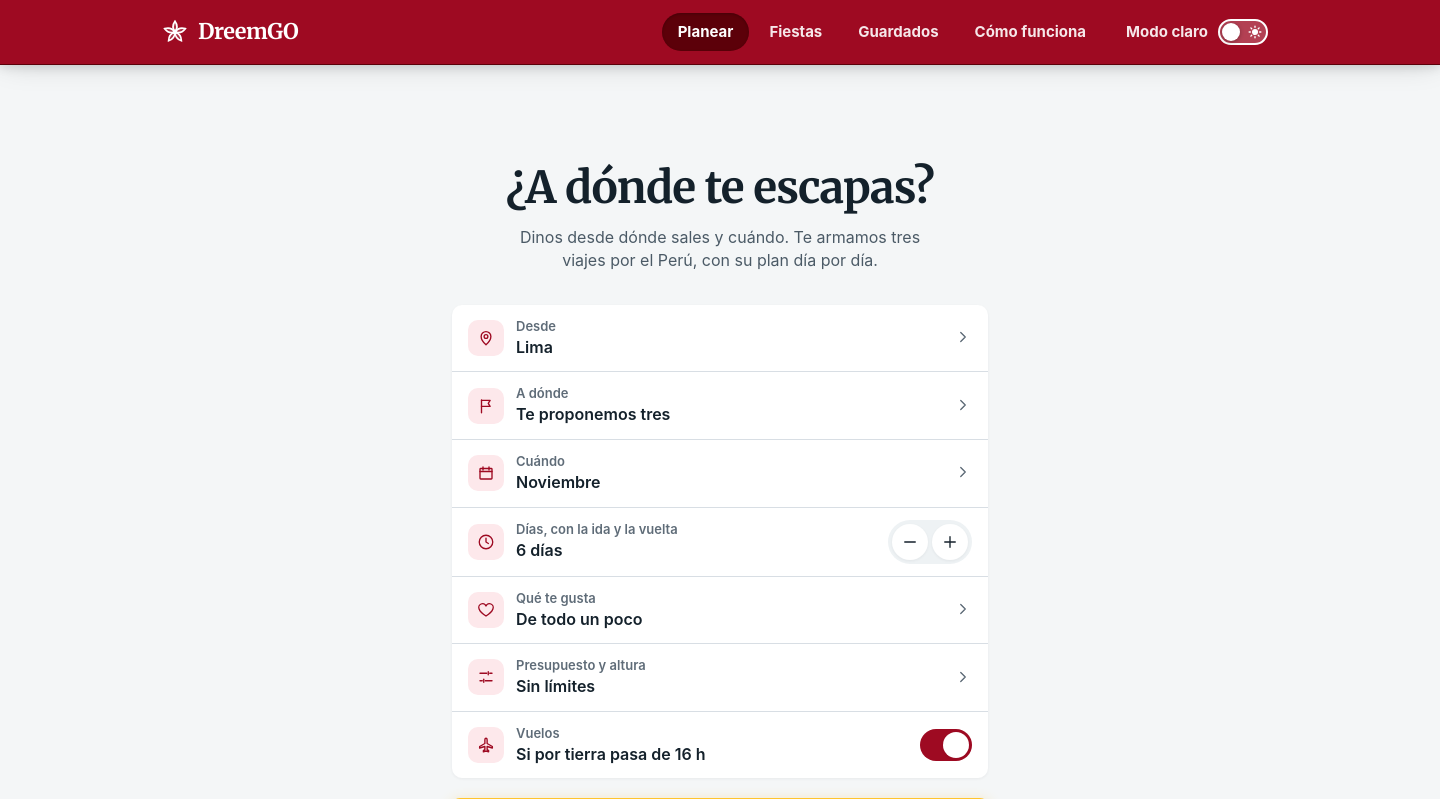
Test case: el formulario › Enter elige la primera zona que coincide, y «Te proponemos tres» quita el destino
The width and height of the screenshot is (1440, 799).
(page scrolled)
expect the button "Desde Lima" is shown: met, box top-left (452, 305), bottom-right (988, 371)
Step 1. Click the button "A dónde Te proponemos tres" → [486, 406], box top-left (452, 371), bottom-right (988, 439)
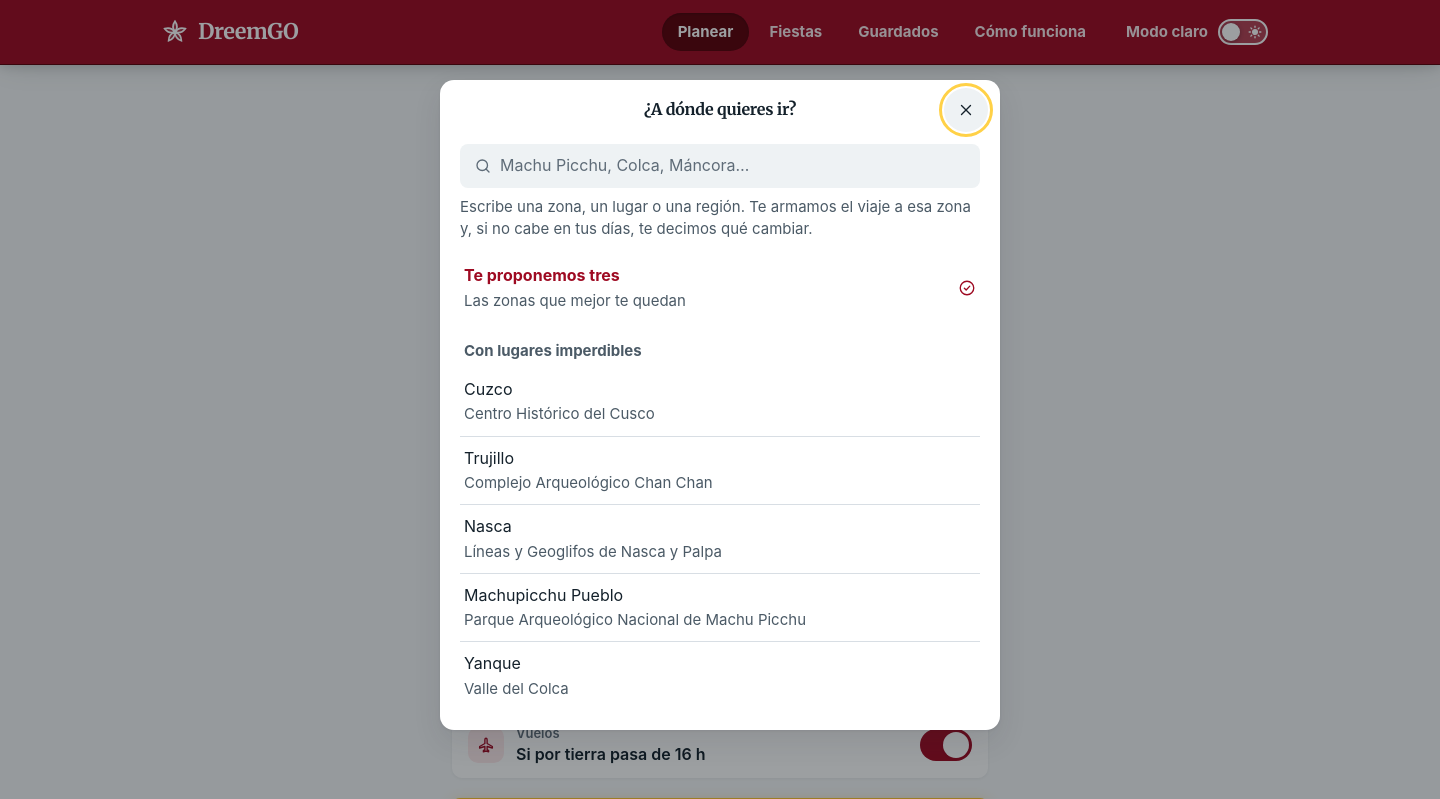
Step 2. Type "colca" into the search field named "Buscar una zona o un lugar" → [733, 166], box top-left (500, 144), bottom-right (966, 188)
Then press Enter
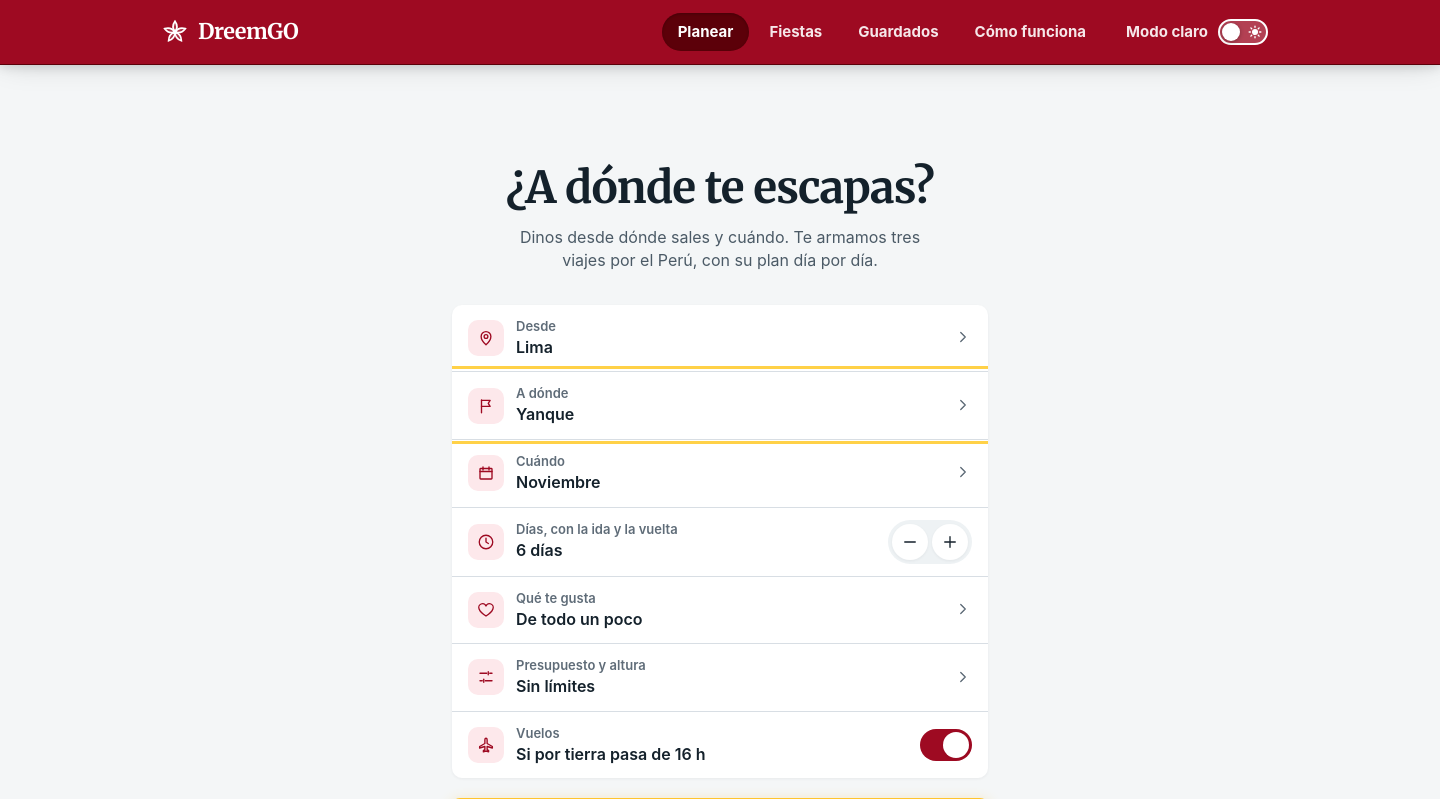
expect the element showing "A dónde Yanque" is shown: met, box top-left (516, 385), bottom-right (574, 424)
Step 3. Click the button "A dónde Yanque" → [486, 406], box top-left (452, 371), bottom-right (988, 439)
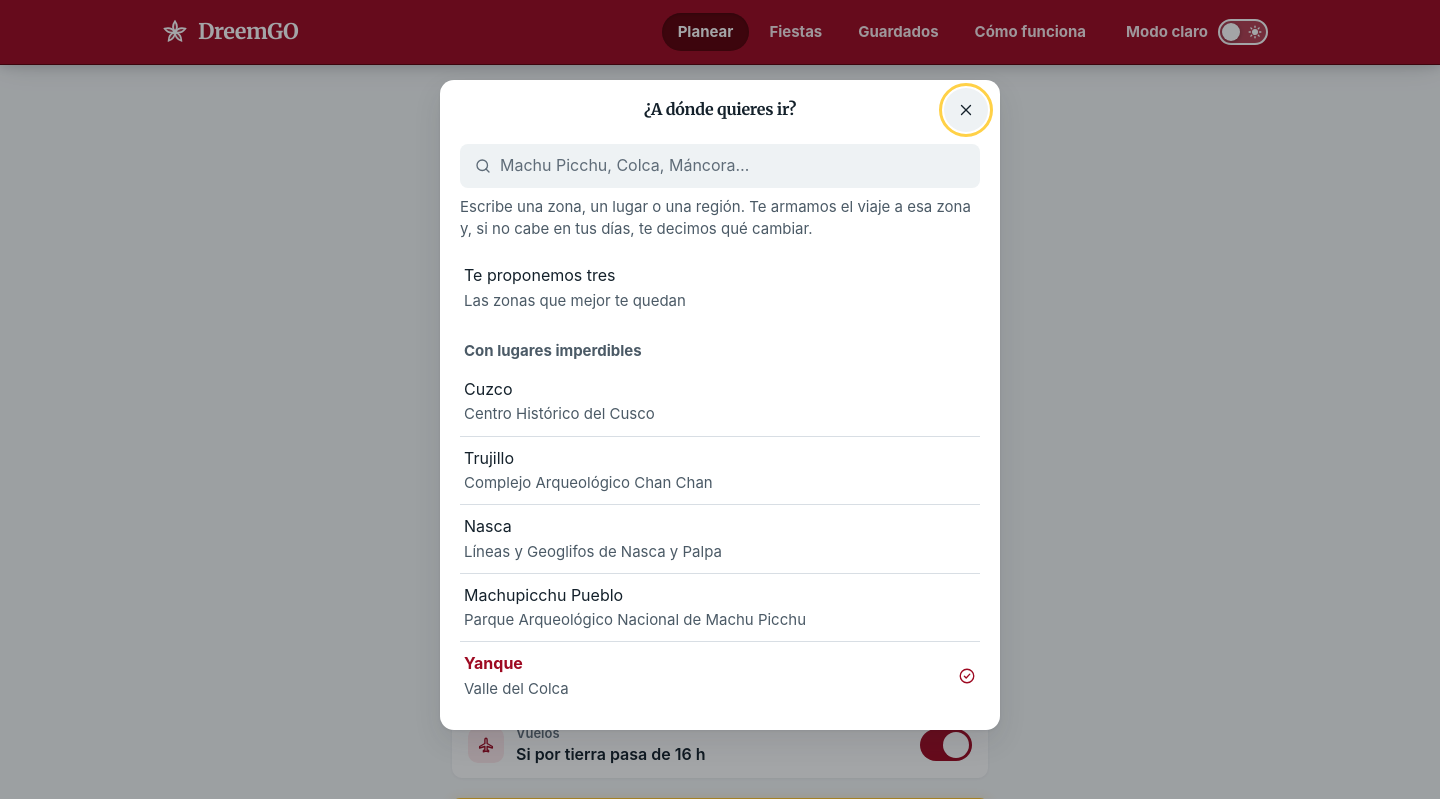
expect the button "Yanque Valle del Colca" is shown: met, box top-left (460, 642), bottom-right (980, 710)
Step 4. Click the button "Te proponemos tres Las zonas que mejor te quedan" → [540, 275], box top-left (460, 254), bottom-right (980, 322)
(page scrolled)
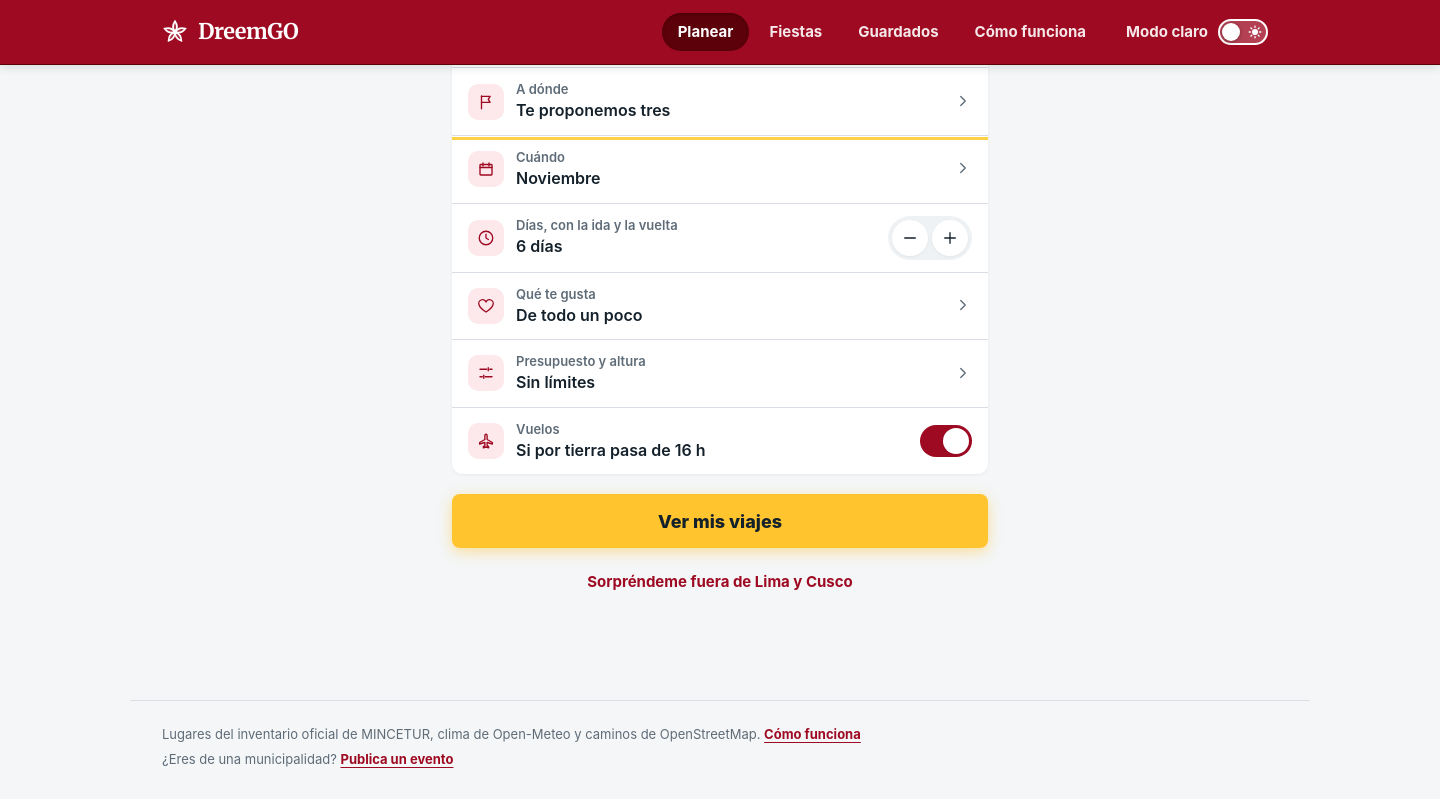
expect the element showing "A dónde Te proponemos tres" is shown: met, box top-left (516, 81), bottom-right (670, 120)
expect the button "Sorpréndeme fuera de Lima y Cusco" is shown: met, box top-left (583, 560), bottom-right (857, 604)
